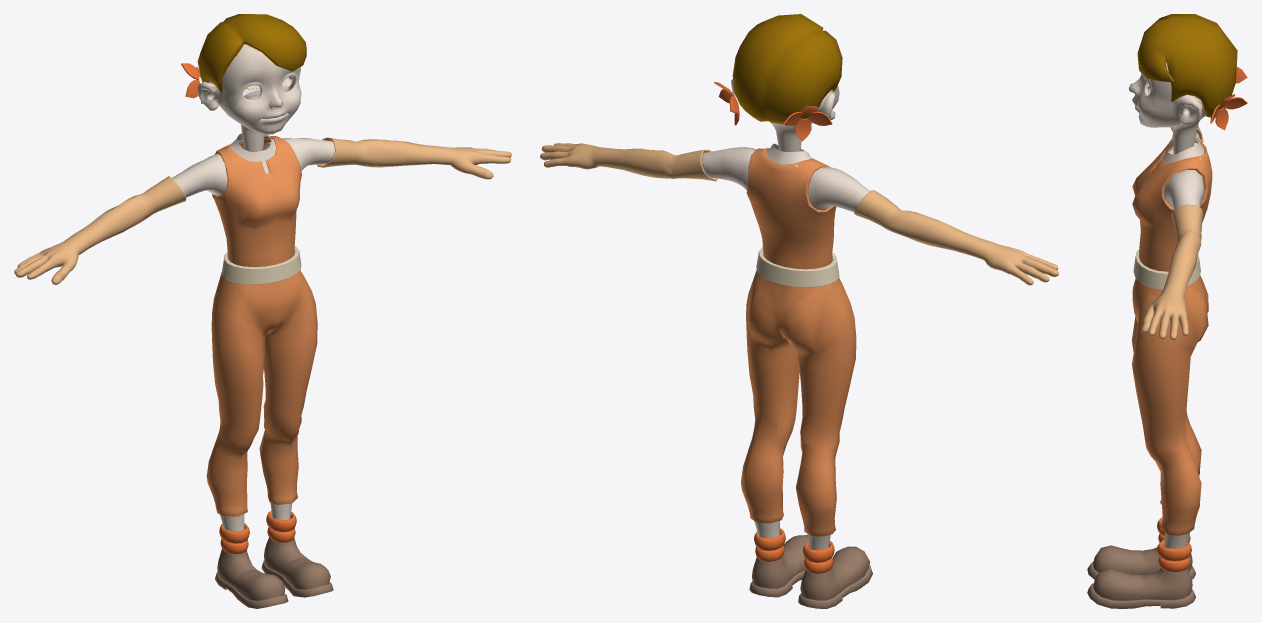
3 views of the same model, side by side, from view 1: azimuth 30°, elevation 25°; view 2: azimuth 150°, elevation 25°; view 3: azimuth 270°, elevation 25° (orthographic). The views are drawn at different scales.
Parts seen in each view (by area): view 1: girl:polySurface6, girl:girl_mo_boby_3, girl:polySurface5, girl:girl_mo_caput_2, girl:girl_mo_boby_2, girl:girl_mo_boby_5, girl:girl_mo_boby_13, girl:girl_mo_boby_12, girl:girl_mo_boby_1, girl:girl_mo_boby_6, girl:girl_mo_boby_4; view 2: girl:polySurface6, girl:girl_mo_caput_2, girl:girl_mo_boby_3, girl:girl_mo_boby_2, girl:girl_mo_boby_5, girl:girl_mo_boby_13, girl:girl_mo_boby_12, girl:girl_mo_boby_1, girl:girl_mo_boby_6, girl:girl_mo_boby_4, girl:polySurface5; view 3: girl:polySurface6, girl:girl_mo_caput_2, girl:girl_mo_boby_3, girl:girl_mo_boby_5, girl:girl_mo_boby_12, girl:polySurface5, girl:girl_mo_boby_13, girl:girl_mo_boby_4, girl:girl_mo_boby_6, girl:nurbsToSubd1, girl:girl_mo_boby_0, girl:nurbsToSubd2 (+1 smaller).
Part boxes in pixels (<box>): girl:polySurface6: <box>206,270,317,516</box>; girl:girl_mo_boby_3: <box>212,136,301,267</box>; girl:polySurface5: <box>197,44,301,151</box>; girl:girl_mo_caput_2: <box>197,14,306,92</box>; girl:girl_mo_boby_2: <box>14,176,186,285</box>; girl:girl_mo_boby_5: <box>317,137,511,179</box>; girl:girl_mo_boby_13: <box>215,549,288,608</box>; girl:girl_mo_boby_12: <box>261,537,333,597</box>; girl:girl_mo_boby_1: <box>172,154,227,197</box>; girl:girl_mo_boby_6: <box>221,246,301,284</box>; girl:girl_mo_boby_4: <box>264,138,334,170</box>; girl:polySurface6: <box>741,270,856,536</box>; girl:girl_mo_caput_2: <box>732,14,842,125</box>; girl:girl_mo_boby_3: <box>746,147,836,269</box>; girl:girl_mo_boby_2: <box>854,190,1058,285</box>; girl:girl_mo_boby_5: <box>540,143,717,181</box>; girl:girl_mo_boby_13: <box>798,546,872,608</box>; girl:girl_mo_boby_12: <box>749,535,808,597</box>; girl:girl_mo_boby_1: <box>808,167,870,211</box>; girl:girl_mo_boby_6: <box>756,247,839,287</box>; girl:girl_mo_boby_4: <box>701,147,756,190</box>; girl:polySurface5: <box>731,79,839,151</box>; girl:polySurface6: <box>1132,275,1208,535</box>; girl:girl_mo_caput_2: <box>1137,14,1237,117</box>; girl:girl_mo_boby_3: <box>1132,138,1212,271</box>; girl:girl_mo_boby_5: <box>1141,204,1203,340</box>; girl:girl_mo_boby_12: <box>1087,568,1195,608</box>; girl:polySurface5: <box>1129,62,1205,154</box>; girl:girl_mo_boby_13: <box>1087,545,1195,579</box>; girl:girl_mo_boby_4: <box>1163,169,1204,209</box>; girl:girl_mo_boby_6: <box>1133,249,1200,289</box>; girl:nurbsToSubd1: <box>1157,540,1191,561</box>; girl:girl_mo_boby_0: <box>1155,137,1204,167</box>; girl:nurbsToSubd2: <box>1158,557,1190,572</box>.
Size of the model in its own units: 3.76 by 4.02 by 1.03.
